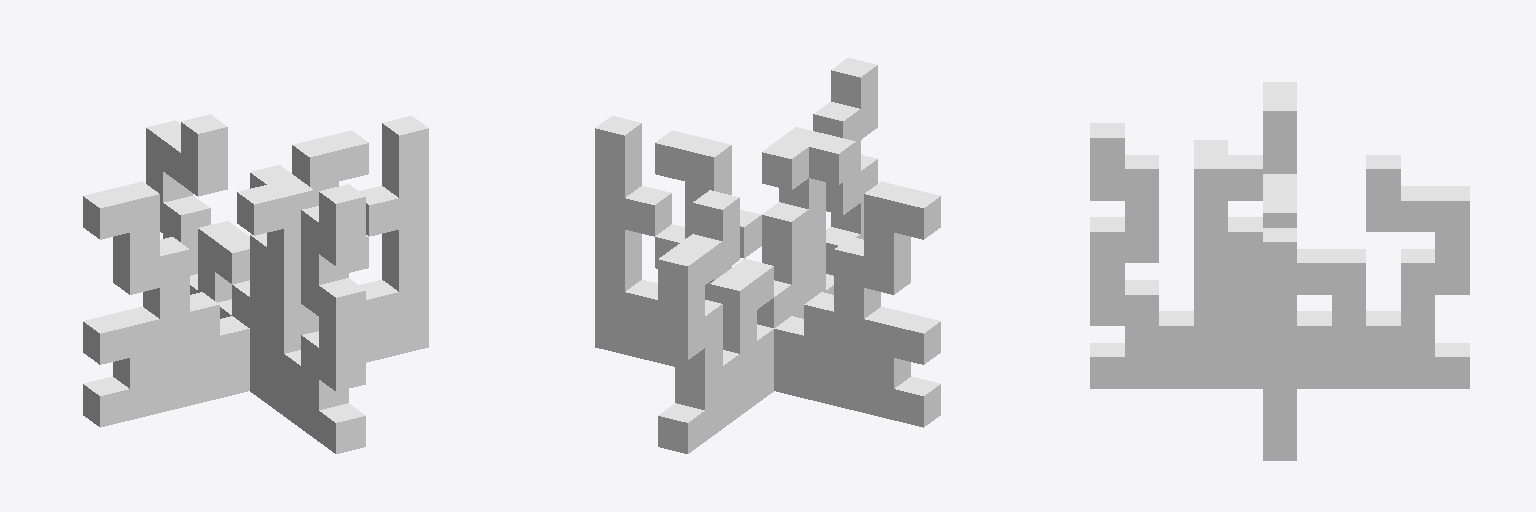
File: Gras.obj
The picture shows the model from 3 angles: view 1: azimuth 30°, elevation 25°; view 2: azimuth 150°, elevation 25°; view 3: azimuth 270°, elevation 25°; orthographic projection.
Parts seen in each view (by area): view 1: object 1; view 2: object 1; view 3: object 1.
Boxes of the visible parts, box(x1,y1,x2,y2) form: object 1: box(83, 114, 428, 453); object 1: box(595, 58, 940, 453); object 1: box(1090, 82, 1469, 460).
Bounding box in the file's own units: 1.1 × 0.8 × 1.1.